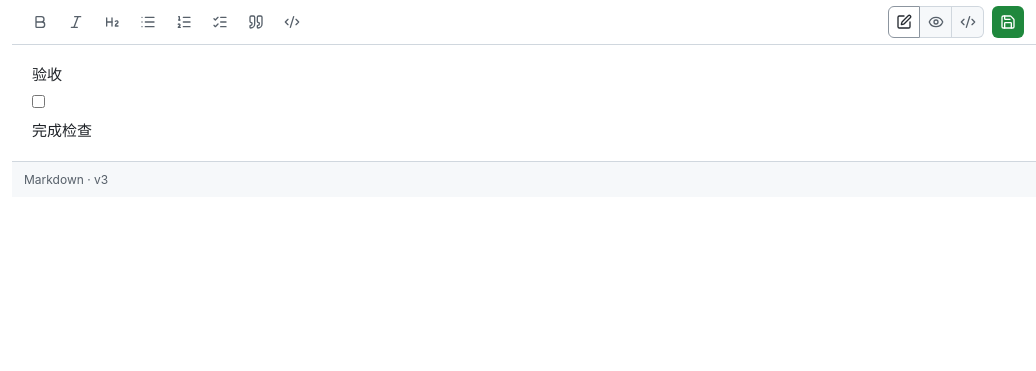
Test: TaskEditor › exposes rich edit, preview and source modes with a stable scroll owner
Step 1. Click the button named "预览" → point(936, 22), box [920, 6, 952, 38]
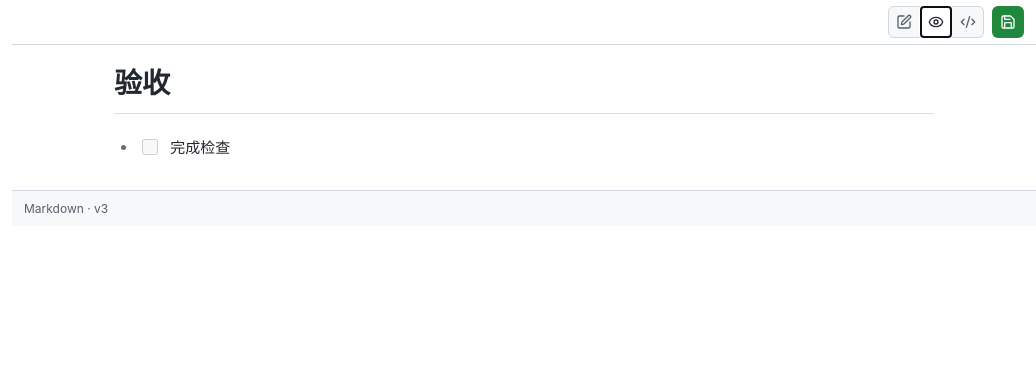
Expected: the heading "验收" is shown, [114, 65, 934, 114]
Step 2. Click the button named "Markdown 源码" → point(968, 22), box [952, 6, 984, 38]
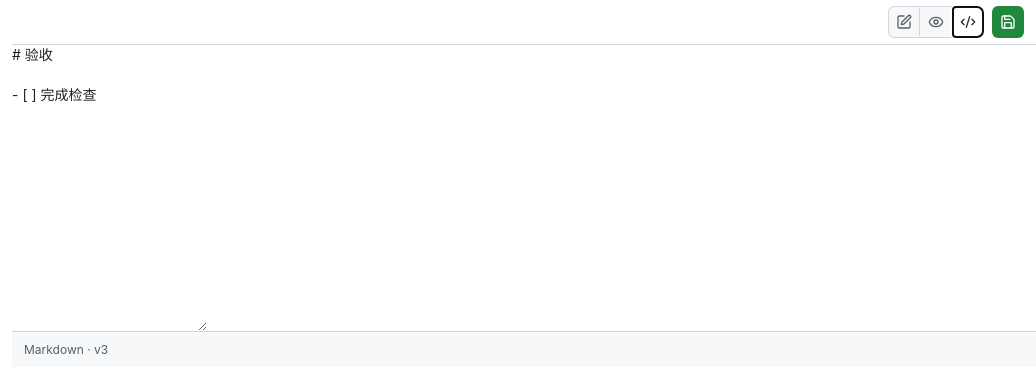
Expected: the text box named "任务 Markdown 正文" is shown, [12, 45, 207, 331]
